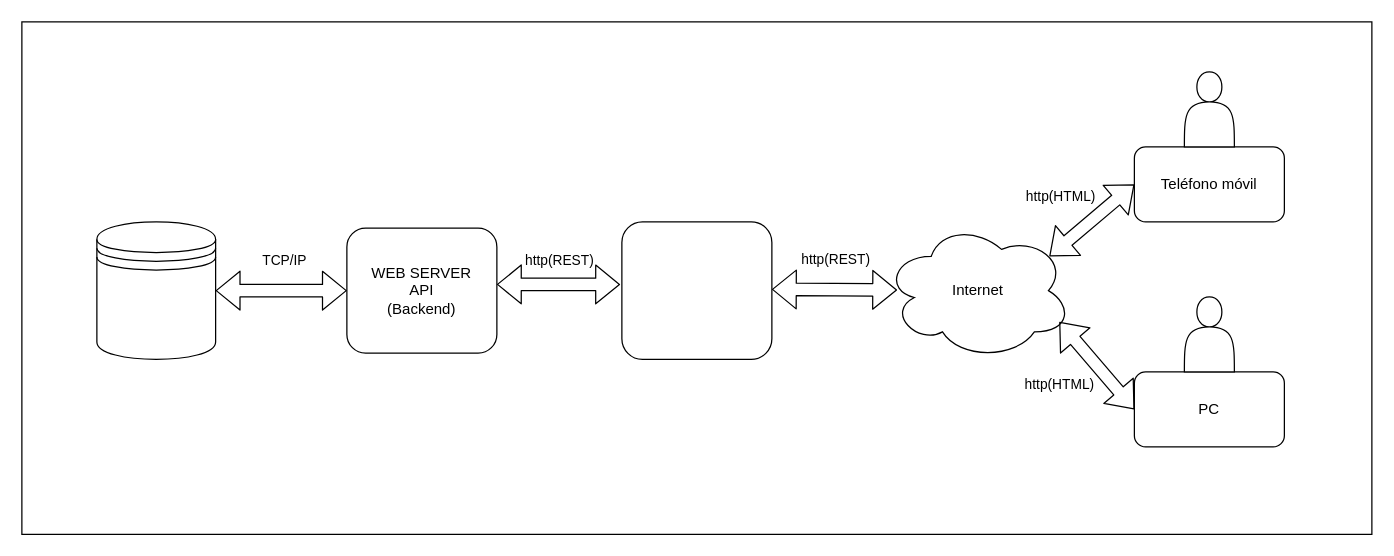
This 1394x556 diagram has some shape labels left out. Here are the shapes that lost their labels. From the top down, the centre of each, then its label:
At (156,290): "MongoDB".
At (696,290): "WEB SERVER WIX (Frontend)".
